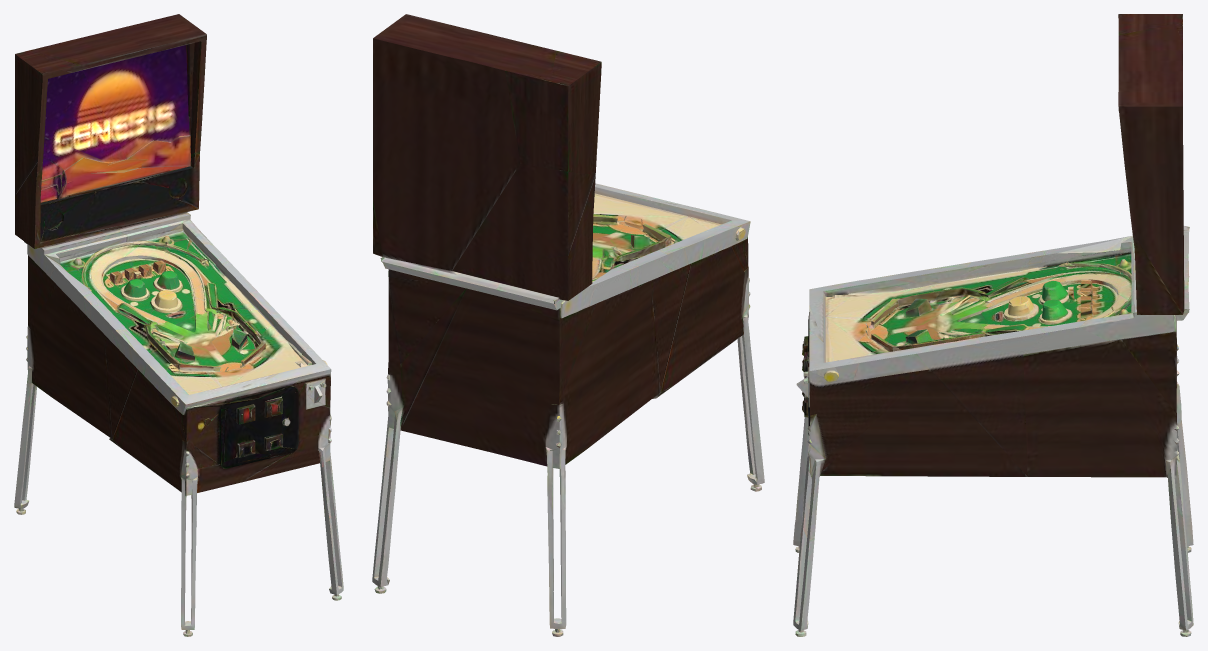
The model's file is pinball.glb.
3 views of the same model, side by side, from view 1: azimuth 30°, elevation 25°; view 2: azimuth 150°, elevation 25°; view 3: azimuth 270°, elevation 25° (orthographic). The views are drawn at different scales.
Parts seen in each view (by area): view 1: Mesh_0; view 2: Mesh_0; view 3: Mesh_0.
Part boxes in pixels (left/top/right/bottom): Mesh_0: left=14, top=14, right=343, bottom=636; Mesh_0: left=372, top=14, right=764, bottom=636; Mesh_0: left=793, top=14, right=1193, bottom=636.
Size of the model in its own units: 0.7071 by 1.9 by 1.29.
1 material, 1 textured.
